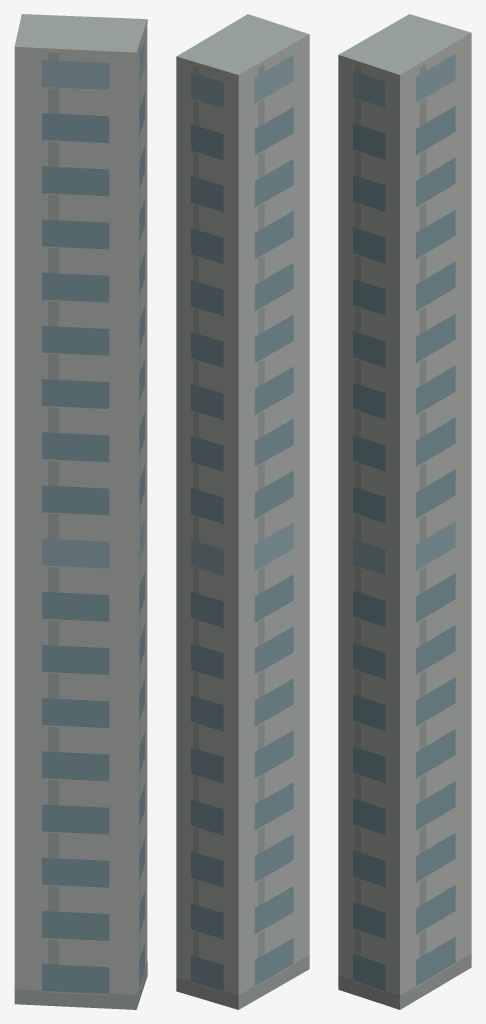
The model's file is survey-upis-32575791.glb.
3 views of the same model, side by side, from view 1: azimuth 90°, elevation 25°; view 2: azimuth 150°, elevation 25°; view 3: azimuth 330°, elevation 25° (orthographic). The views are drawn at different scales.
Visible parts, largest first — view 1: survey-upis-32575791.tmp; view 2: survey-upis-32575791.tmp; view 3: survey-upis-32575791.tmp.
Boxes of the visible parts, bbox=[...] form: survey-upis-32575791.tmp: bbox=[14, 14, 147, 1009]; survey-upis-32575791.tmp: bbox=[176, 14, 309, 1009]; survey-upis-32575791.tmp: bbox=[338, 14, 471, 1009].
Bounding box in the file's own units: 4.75 × 54.9 × 6.92.
